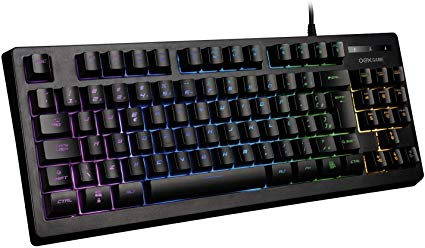keyboard: (1, 30, 425, 244)
